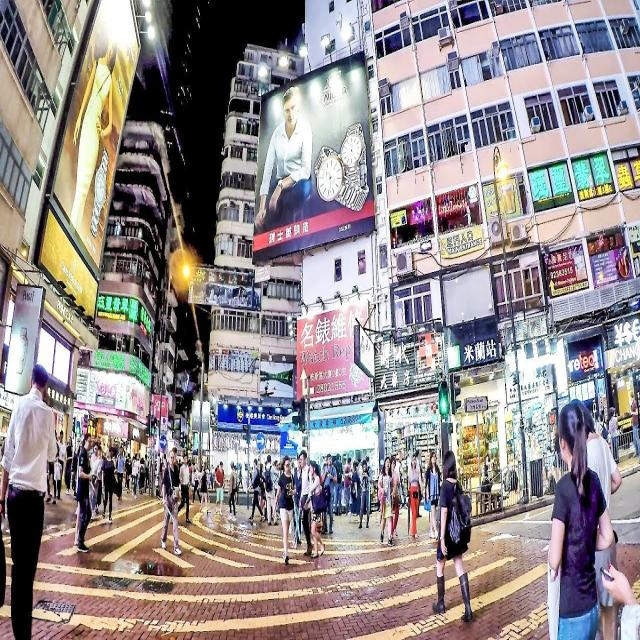body: (2, 375, 617, 507), (238, 46, 370, 239), (64, 11, 128, 272), (545, 399, 614, 639), (0, 363, 56, 639), (569, 397, 623, 640), (432, 448, 474, 623), (598, 555, 639, 640), (519, 416, 563, 485), (271, 454, 297, 564), (303, 460, 329, 558), (160, 449, 183, 556), (75, 432, 93, 555), (423, 450, 444, 546), (296, 448, 313, 556), (376, 455, 394, 546), (406, 454, 424, 540), (320, 454, 337, 534), (100, 444, 116, 526), (263, 454, 280, 526), (248, 458, 266, 522), (88, 440, 102, 522), (177, 454, 193, 524), (292, 453, 304, 546), (74, 438, 84, 547), (357, 458, 372, 530), (628, 390, 640, 460), (390, 456, 400, 540), (332, 452, 344, 516), (227, 460, 239, 522), (608, 406, 620, 466), (56, 428, 66, 499), (397, 451, 409, 510), (361, 458, 373, 516), (414, 449, 424, 517), (114, 446, 126, 502), (64, 436, 75, 496), (349, 462, 361, 516), (213, 460, 225, 514), (196, 460, 208, 514), (589, 412, 609, 442), (343, 456, 352, 516), (130, 452, 140, 498), (396, 454, 404, 510), (482, 441, 494, 477), (406, 448, 413, 498), (142, 454, 150, 494), (137, 455, 145, 495), (124, 457, 132, 491), (454, 436, 468, 450), (238, 466, 245, 492)
